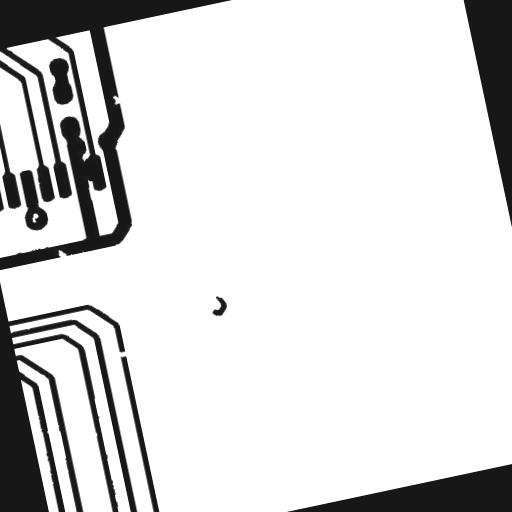copper: (200, 284, 237, 326)
mousebite: (48, 239, 75, 268), (104, 85, 130, 113)
open: (106, 338, 137, 366)
pin-hole: (22, 203, 48, 231)
short: (70, 148, 104, 190)
